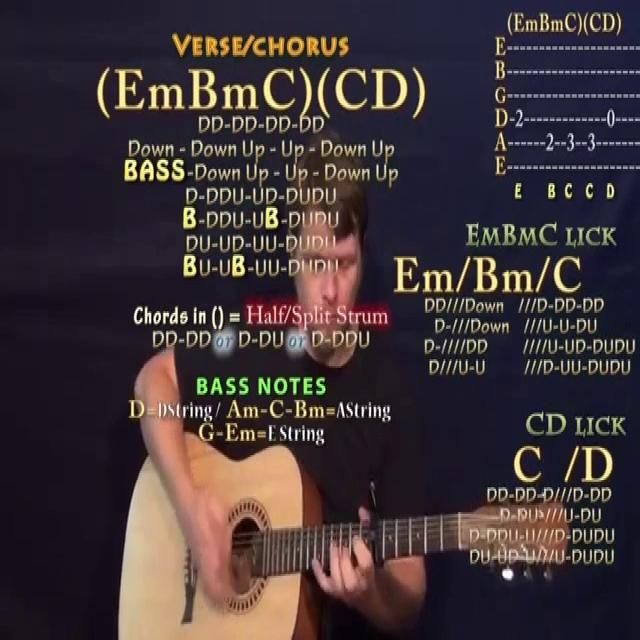Guitar: (118, 441, 570, 640)
